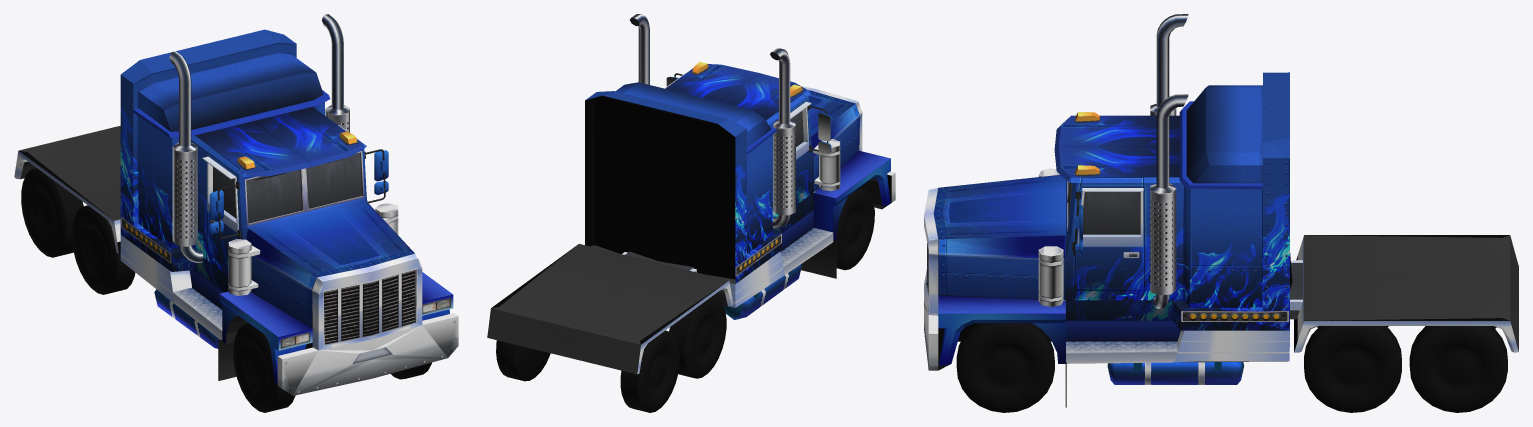
The model's file is Model_Truck.FBX.
The picture shows the model from 3 angles, left to right: view 1: azimuth 30°, elevation 25°; view 2: azimuth 150°, elevation 25°; view 3: azimuth 270°, elevation 25°; orthographic projection. The views are drawn at different scales.
Visible parts, largest first — view 1: Body, WheelRR1, WheelRR2, WheelFR; view 2: Body, WheelRR1, WheelRR2, WheelFR, WheelRL1; view 3: Body, WheelFL, WheelRL1, WheelRL2.
Part boxes in pixels (<box>): Body: <box>14,14,458,395</box>; WheelRR1: <box>21,168,83,257</box>; WheelRR2: <box>72,205,135,294</box>; WheelFR: <box>233,323,295,412</box>; Body: <box>487,14,895,374</box>; WheelRR1: <box>620,330,679,412</box>; WheelRR2: <box>669,296,726,378</box>; WheelFR: <box>835,187,874,270</box>; WheelRL1: <box>496,340,550,381</box>; Body: <box>924,14,1518,407</box>; WheelFL: <box>956,323,1054,412</box>; WheelRL1: <box>1409,326,1507,412</box>; WheelRL2: <box>1304,326,1401,412</box>.
Bounding box in the file's own units: 3835 × 6069 × 10305.
